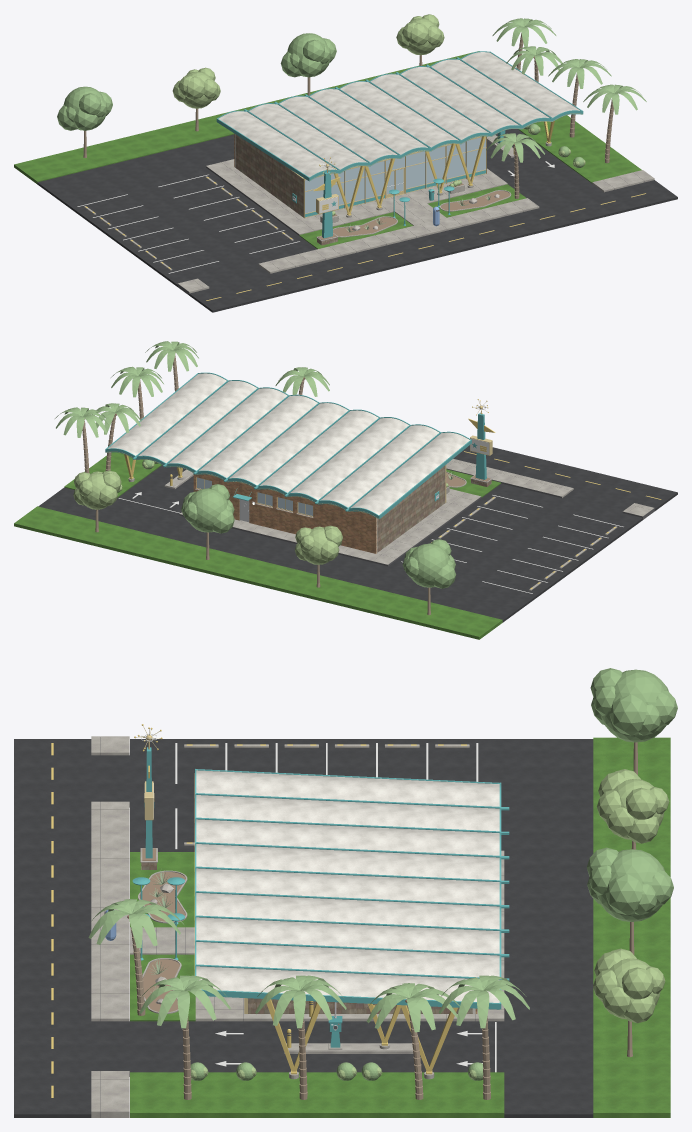
The model's file is building_assembled.glb.
3 views of the same model, one above another, from view 1: azimuth 30°, elevation 25°; view 2: azimuth 150°, elevation 25°; view 3: azimuth 270°, elevation 25° (orthographic). The views are drawn at different scales.
Visible parts, largest first — view 1: geometry_373, geometry_148, geometry_371, geometry_368, geometry_149, geometry_455, geometry_459, geometry_151, geometry_461, geometry_457, geometry_372, geometry_374 (+17 smaller); view 2: geometry_373, geometry_148, geometry_371, geometry_368, geometry_149, geometry_455, geometry_459, geometry_151, geometry_457, geometry_461, geometry_374, geometry_399 (+14 smaller); view 3: geometry_373, geometry_148, geometry_371, geometry_368, geometry_151, geometry_455, geometry_459, geometry_457, geometry_461, geometry_149, geometry_411, geometry_405 (+7 smaller).
Part boxes in pixels (<box>): geometry_373: <box>37,129,677,312</box>; geometry_148: <box>218,52,579,177</box>; geometry_371: <box>14,51,641,249</box>; geometry_368: <box>178,135,654,293</box>; geometry_149: <box>216,51,583,181</box>; geometry_455: <box>57,86,112,130</box>; geometry_459: <box>280,33,336,77</box>; geometry_151: <box>247,59,551,169</box>; geometry_461: <box>396,14,444,55</box>; geometry_457: <box>172,67,220,108</box>; geometry_372: <box>333,191,510,236</box>; geometry_374: <box>77,161,554,273</box>; geometry_373: <box>38,445,677,622</box>; geometry_148: <box>108,373,469,514</box>; geometry_371: <box>14,452,502,639</box>; geometry_368: <box>167,459,653,564</box>; geometry_149: <box>105,372,471,519</box>; geometry_455: <box>402,539,456,588</box>; geometry_459: <box>181,484,234,533</box>; geometry_151: <box>136,380,440,507</box>; geometry_457: <box>294,525,342,564</box>; geometry_461: <box>73,470,121,509</box>; geometry_374: <box>118,492,623,593</box>; geometry_399: <box>55,407,108,437</box>; geometry_373: <box>14,739,593,1117</box>; geometry_148: <box>196,770,499,1002</box>; geometry_371: <box>130,737,670,1117</box>; geometry_368: <box>91,736,504,1117</box>; geometry_151: <box>196,793,499,979</box>; geometry_455: <box>590,668,677,742</box>; geometry_459: <box>586,847,673,921</box>; geometry_457: <box>597,769,669,843</box>; geometry_461: <box>593,948,665,1023</box>; geometry_149: <box>195,769,509,1009</box>; geometry_411: <box>255,975,346,1028</box>; geometry_405: <box>139,975,230,1028</box>.
Bounding box in the file's own units: 47.57 × 8.19 × 34.39.
51 materials, 11 textured.
